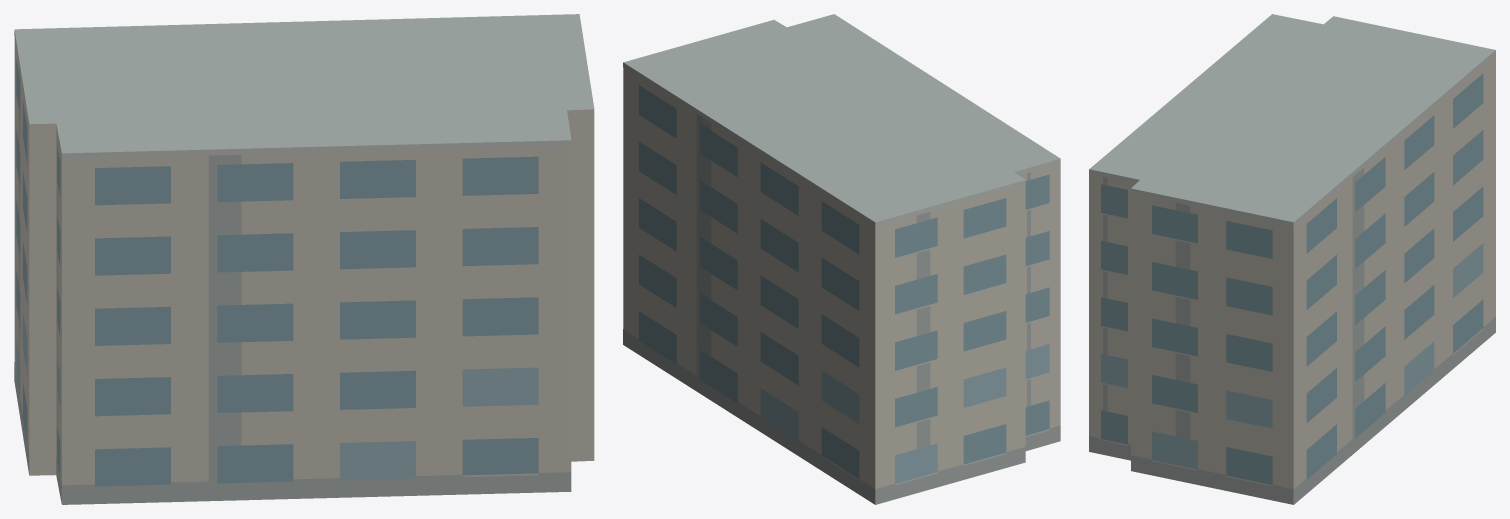
File: survey-upis-32887868.glb
The picture shows the model from 3 angles, left to right: view 1: azimuth 30°, elevation 25°; view 2: azimuth 150°, elevation 25°; view 3: azimuth 270°, elevation 25°; orthographic projection. The views are drawn at different scales.
Parts seen in each view (by area): view 1: survey-upis-32887868.tmp; view 2: survey-upis-32887868.tmp; view 3: survey-upis-32887868.tmp.
Part boxes in pixels (x1=…): survey-upis-32887868.tmp: x1=14, y1=14, x2=594, y2=504; survey-upis-32887868.tmp: x1=623, y1=14, x2=1060, y2=504; survey-upis-32887868.tmp: x1=1089, y1=14, x2=1495, y2=504.
Bounding box in the file's own units: 22.3 × 14.1 × 18.4.
